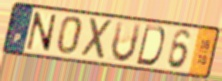0: (55, 15, 84, 57)
6: (166, 27, 193, 71)
D: (134, 23, 167, 67)
N: (25, 10, 58, 54)
U: (110, 19, 144, 64)
X: (80, 16, 116, 62)
